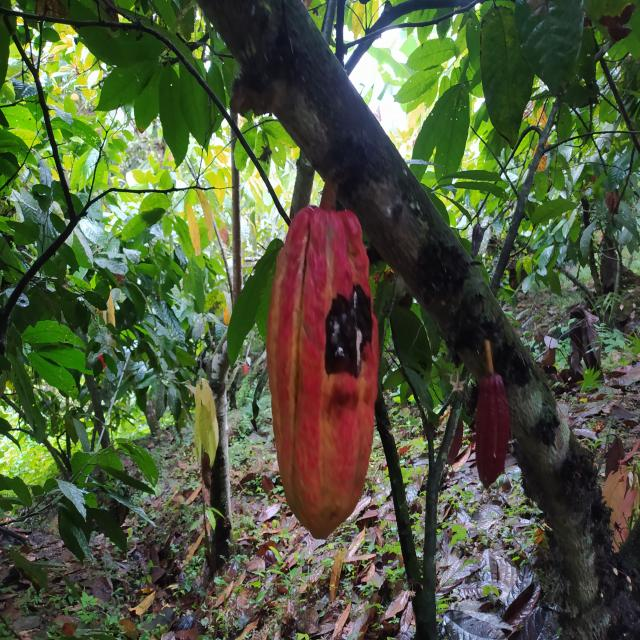Fitoftora: (266, 206, 381, 540)
Sana: (473, 376, 510, 489)
